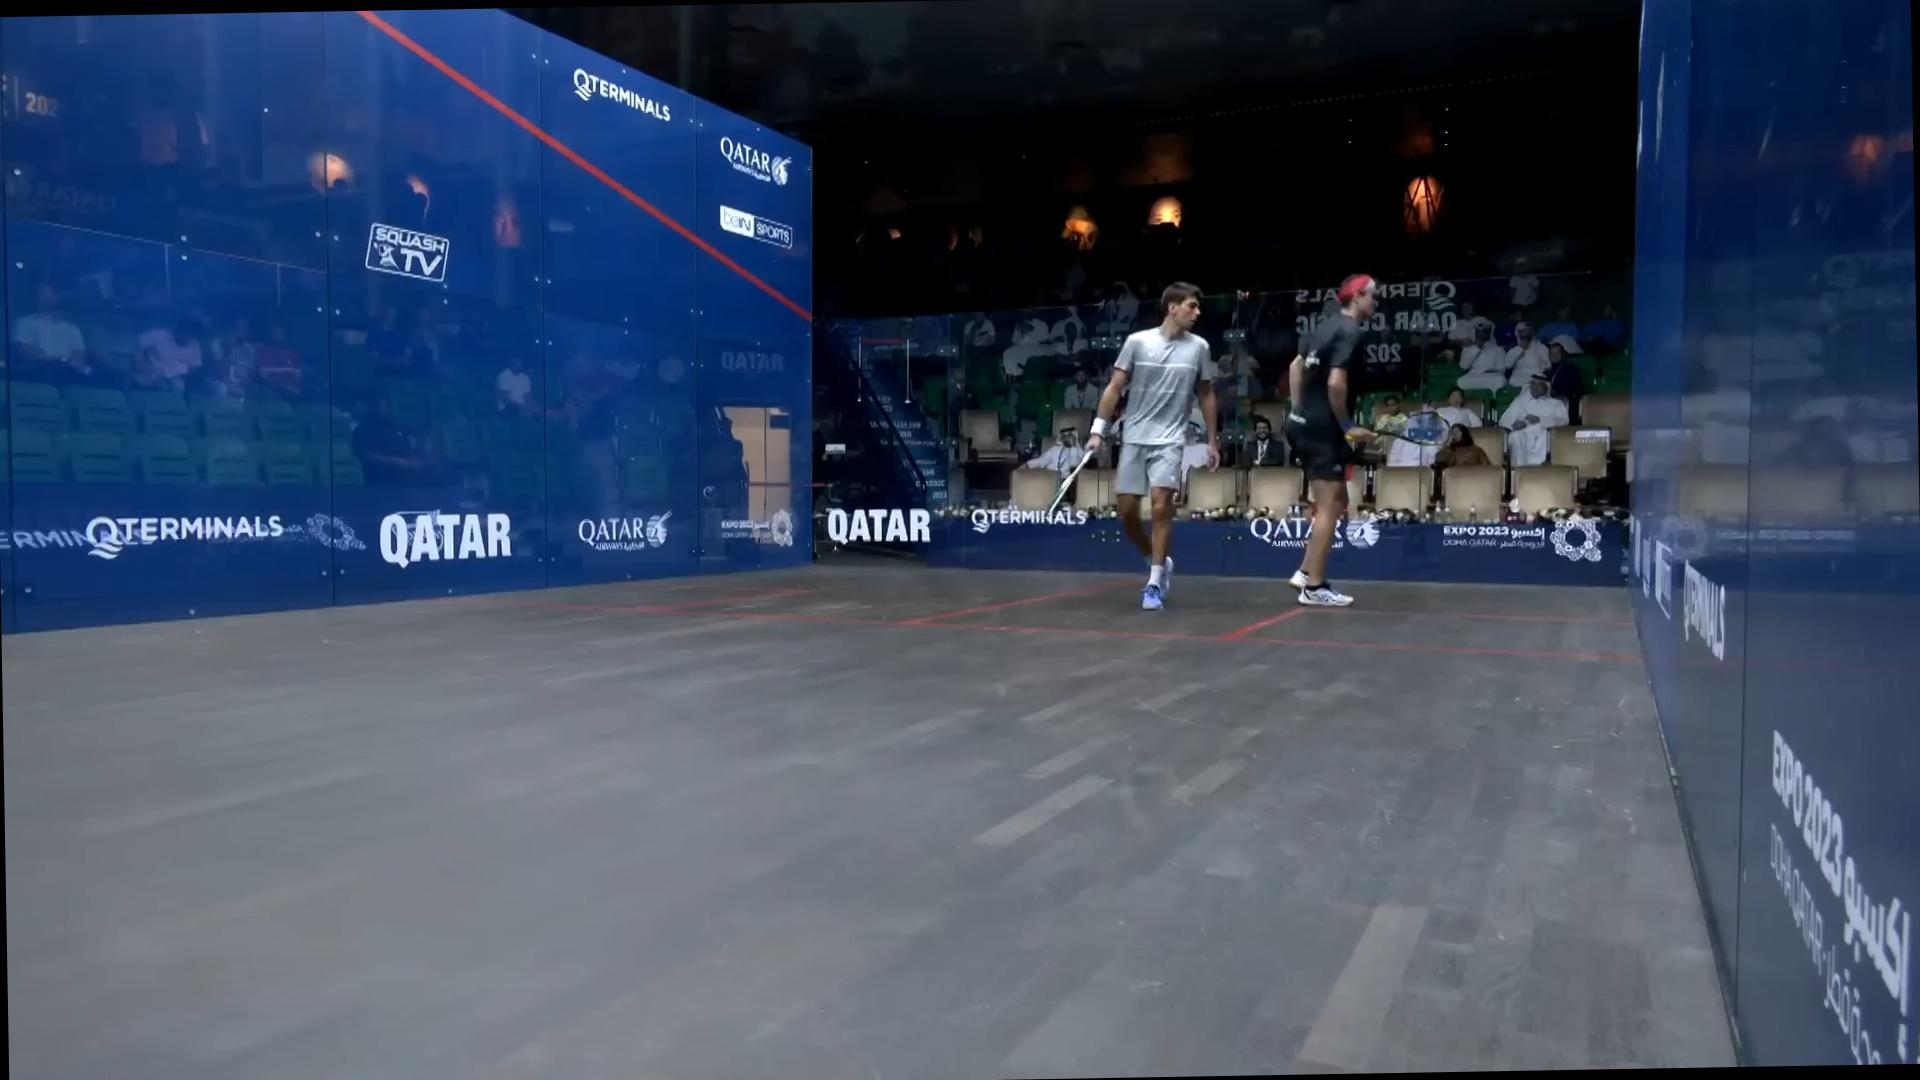Racket: (1360, 404, 1457, 451)
